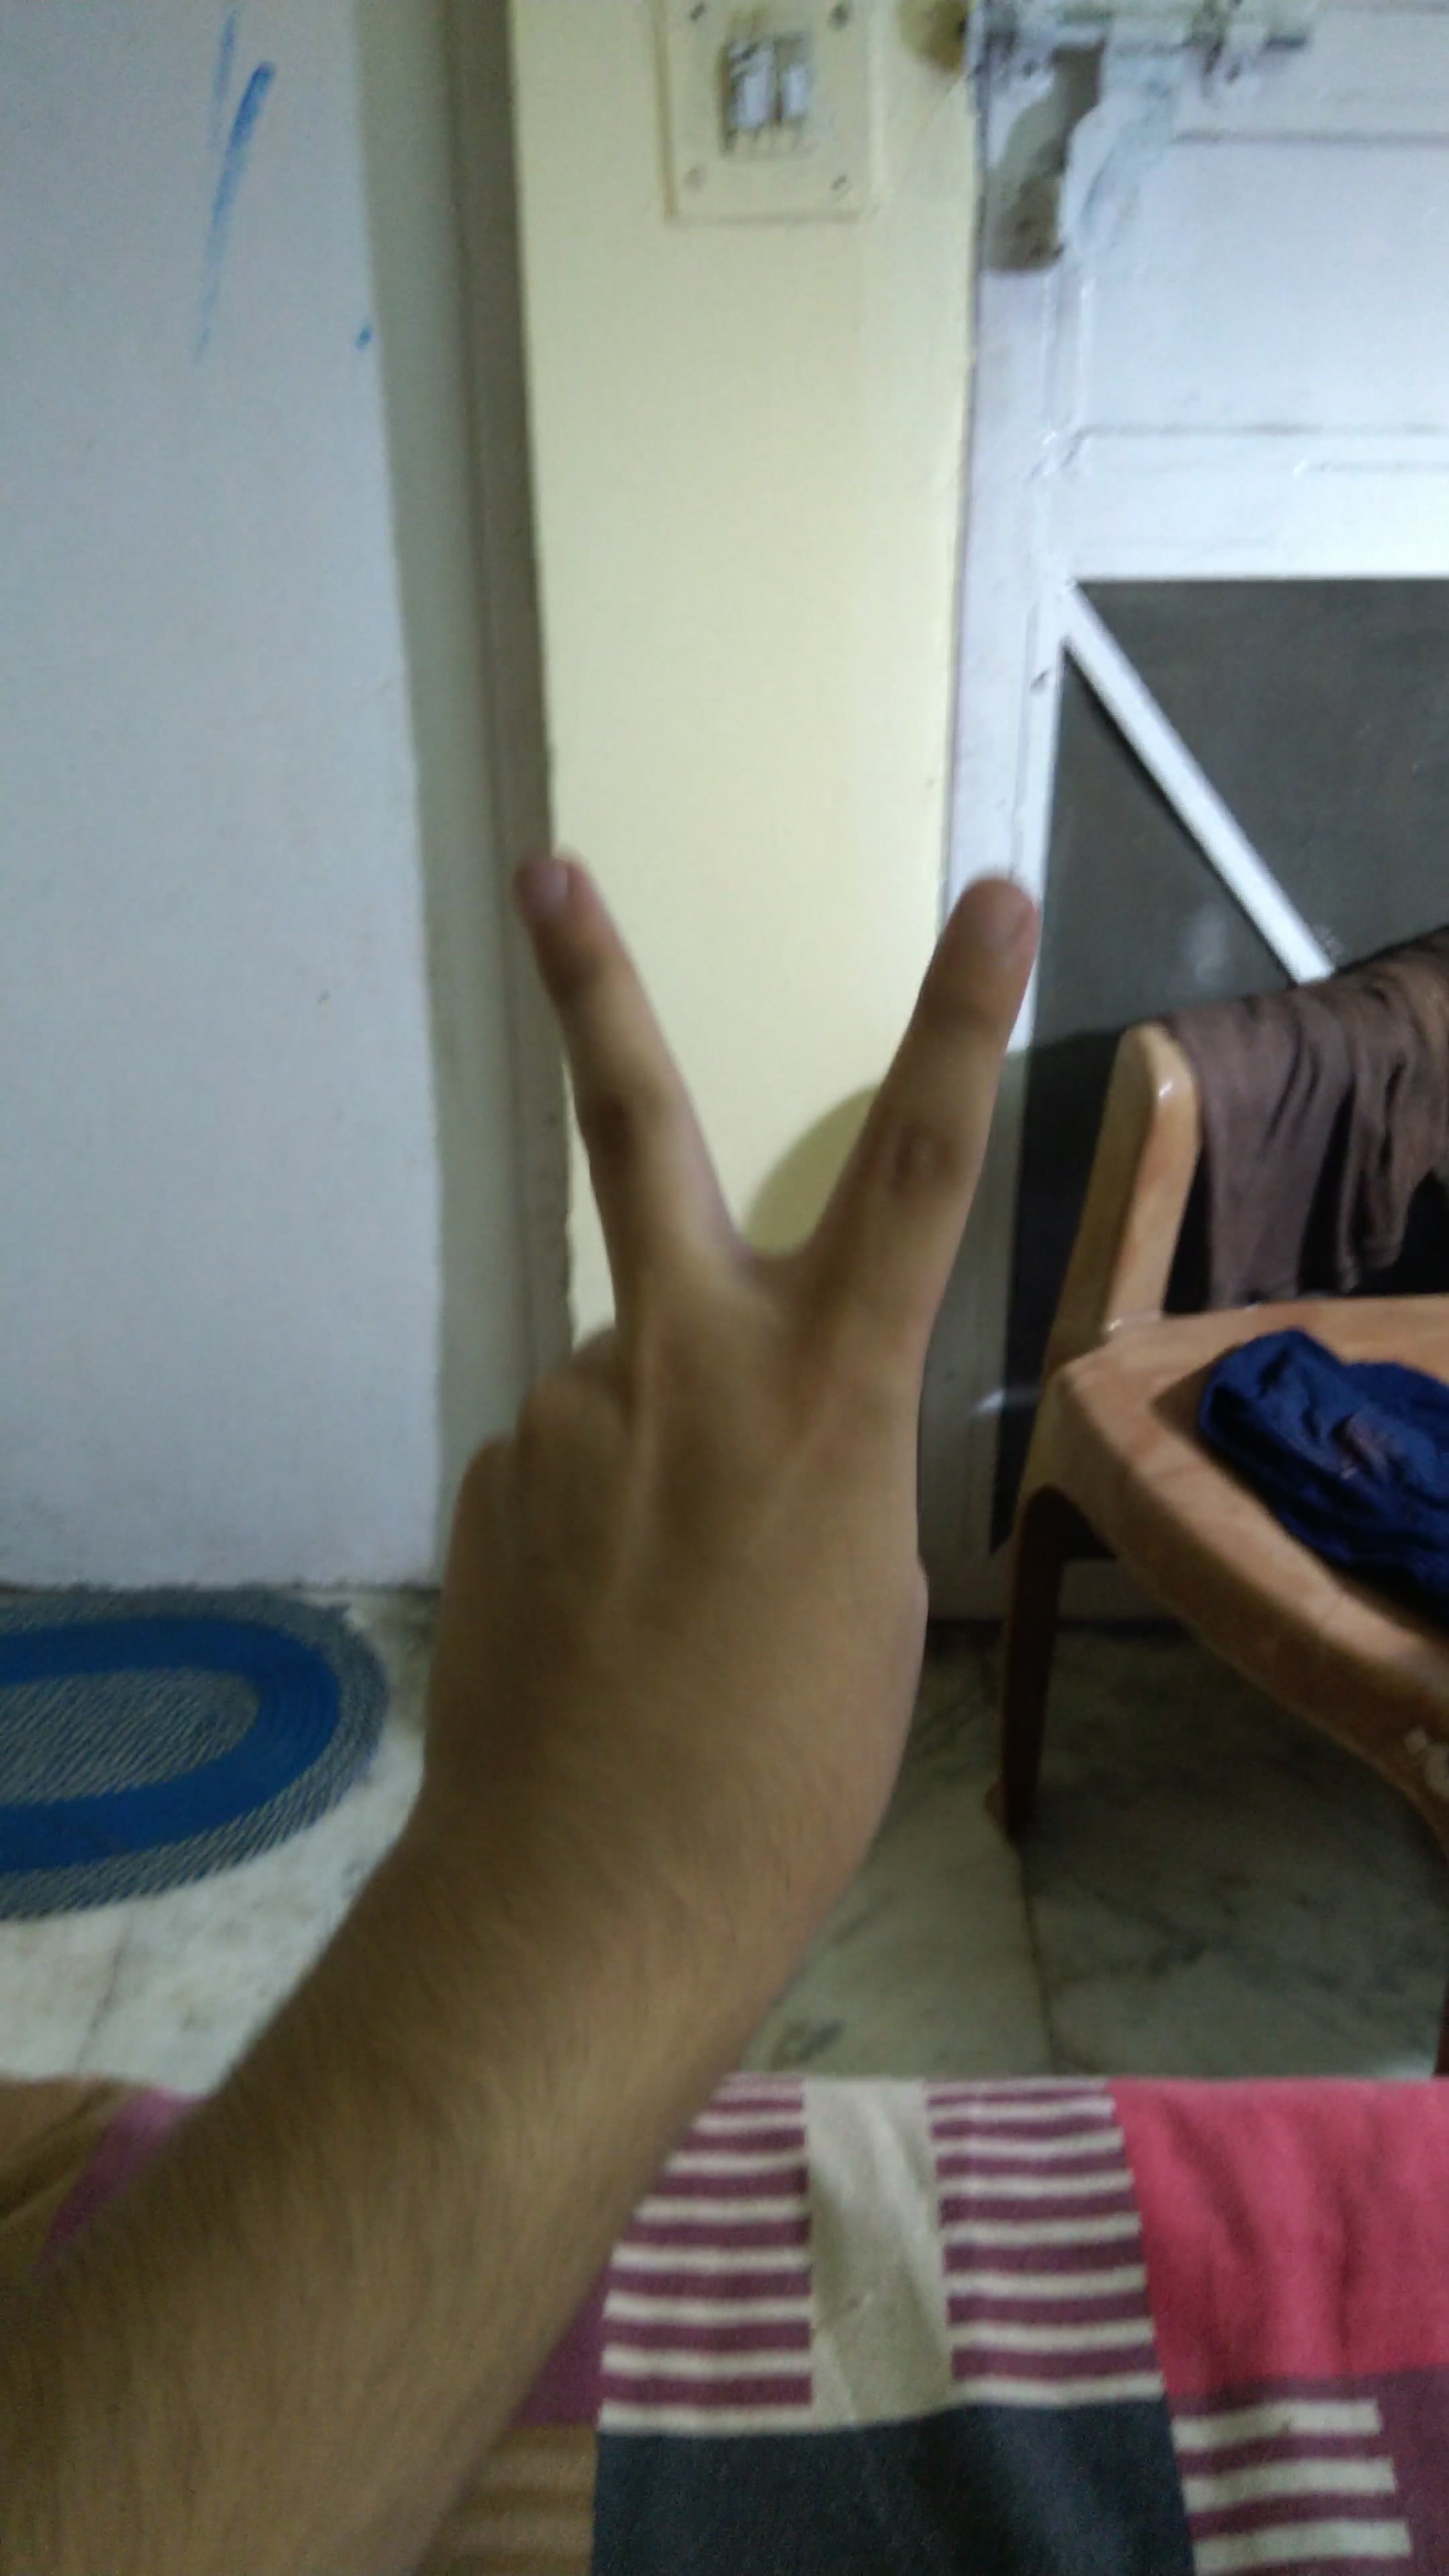hand: (205, 812, 1164, 2058)
